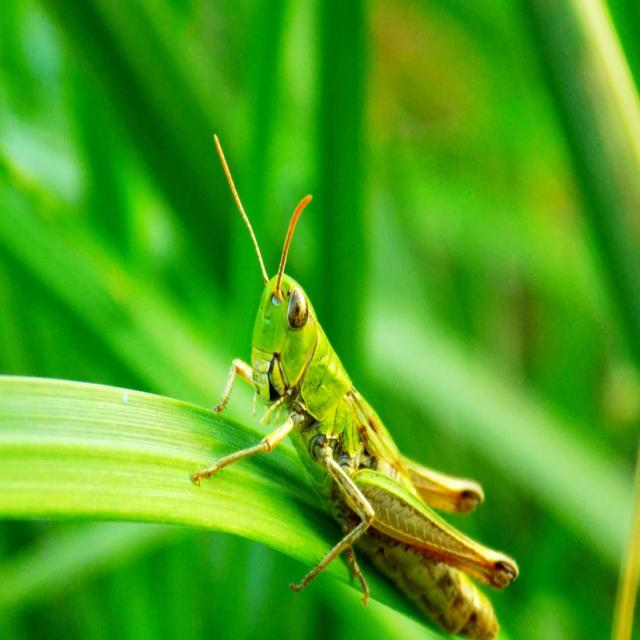ZhaMeng: (192, 253, 530, 604)
